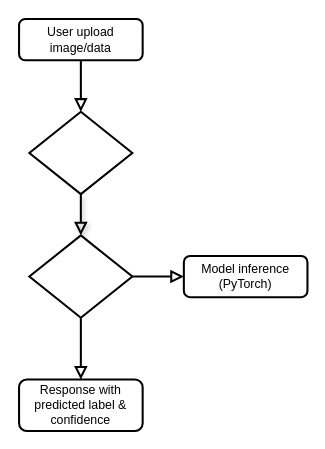
This 325x449 diagram has some shape labels left out. The centre of each missing label's shape, as x and y in pixels:
FastAPI Microservice: the point at 80,152
Preprocessing: the point at 80,276
